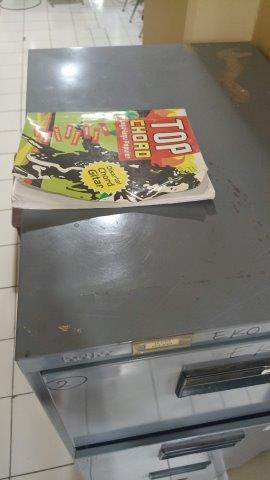kertas: (12, 107, 218, 212)
